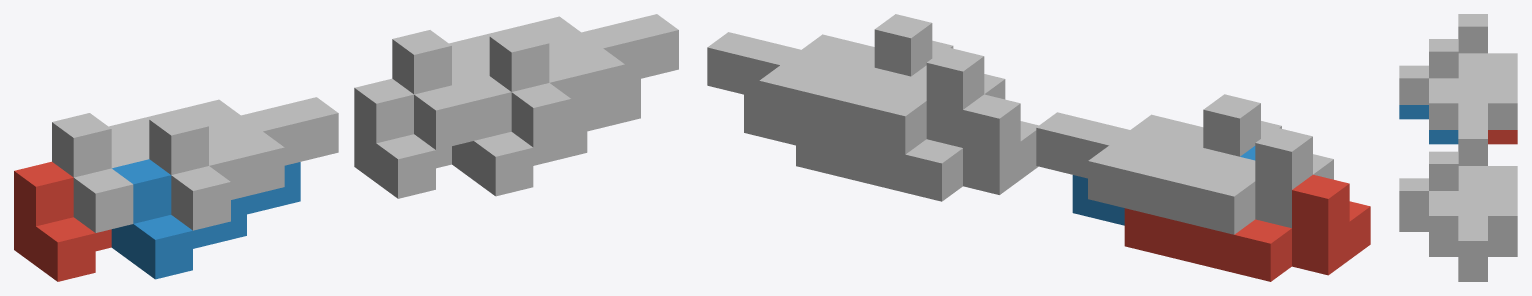
File: tiling.obj
The picture shows the model from 3 angles, left to right: view 1: azimuth 30°, elevation 25°; view 2: azimuth 150°, elevation 25°; view 3: azimuth 270°, elevation 25°; orthographic projection. The views are drawn at different scales.
Parts seen in each view (by area): view 1: copy_1_domain_8, copy_1_domain_4, copy_1_domain_3, copy_1_domain_7, copy_1_domain_2, copy_1_domain_6, copy_1_domain_1, copy_1_domain_5; view 2: copy_1_domain_7, copy_1_domain_3, copy_1_domain_1, copy_1_domain_5, copy_1_domain_8, copy_1_domain_4, copy_1_domain_2, copy_1_domain_6; view 3: copy_1_domain_8, copy_1_domain_4, copy_1_domain_7, copy_1_domain_3, copy_1_domain_6, copy_1_domain_2, copy_1_domain_1, copy_1_domain_5.
Boxes of the visible parts, box(x1,y1,x2,y2) form: copy_1_domain_8: box(489, 14, 678, 147); copy_1_domain_4: box(149, 97, 338, 230); copy_1_domain_3: box(52, 99, 240, 232); copy_1_domain_7: box(392, 16, 580, 149); copy_1_domain_2: box(111, 159, 300, 279); copy_1_domain_6: box(452, 76, 640, 196); copy_1_domain_1: box(14, 161, 111, 281); copy_1_domain_5: box(354, 78, 451, 198); copy_1_domain_7: box(759, 47, 1005, 154); copy_1_domain_3: box(1088, 127, 1333, 234); copy_1_domain_1: box(1124, 174, 1370, 281); copy_1_domain_5: box(796, 94, 1038, 201); copy_1_domain_8: box(707, 14, 953, 98); copy_1_domain_4: box(1036, 94, 1281, 178); copy_1_domain_2: box(1072, 146, 1255, 225); copy_1_domain_6: box(744, 65, 926, 145); copy_1_domain_8: box(1399, 151, 1487, 267); copy_1_domain_4: box(1399, 39, 1487, 129); copy_1_domain_7: box(1458, 126, 1517, 242); copy_1_domain_3: box(1458, 14, 1517, 129); copy_1_domain_6: box(1399, 217, 1487, 281); copy_1_domain_2: box(1399, 105, 1458, 144); copy_1_domain_1: box(1488, 130, 1517, 144); copy_1_domain_5: box(1488, 242, 1517, 256).
Size of the model in its own units: 17 by 3 by 4.
